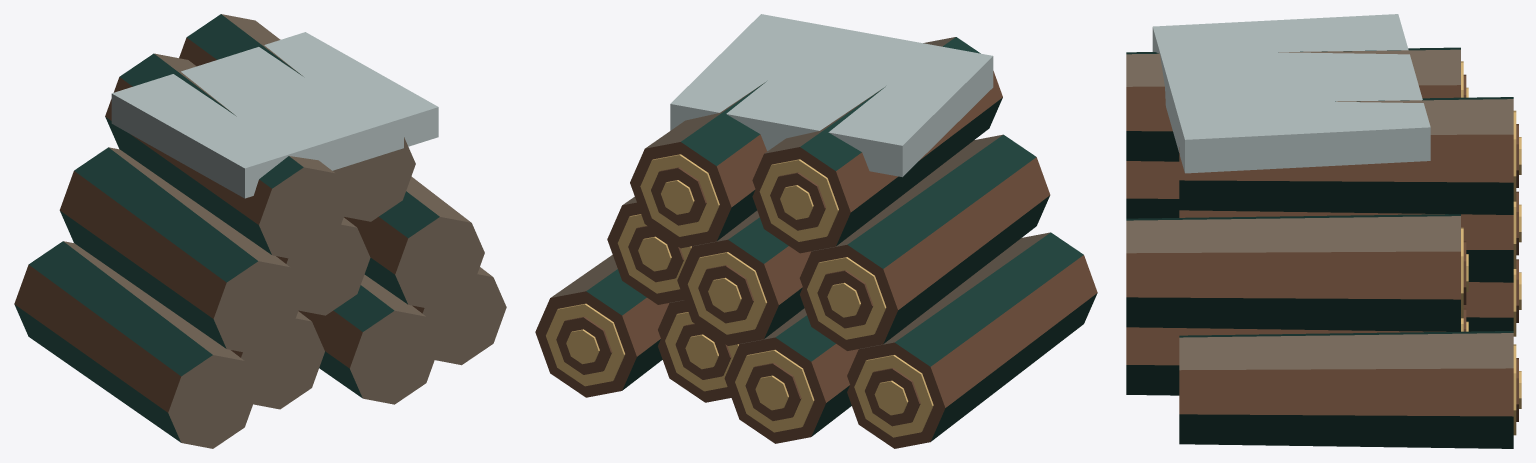
The model's file is log-stack.glb.
3 views of the same model, side by side, from view 1: azimuth 30°, elevation 25°; view 2: azimuth 150°, elevation 25°; view 3: azimuth 270°, elevation 25° (orthographic). The views are drawn at different scales.
Parts seen in each view (by area): view 1: log-stack; view 2: log-stack; view 3: log-stack.
Boxes of the visible parts, x1,y1,x2,y2 form: log-stack: (14,14,506,448); log-stack: (535,14,1097,448); log-stack: (1126,14,1521,448).
Bounding box in the file's own units: 2.35 × 1.62 × 1.95.
